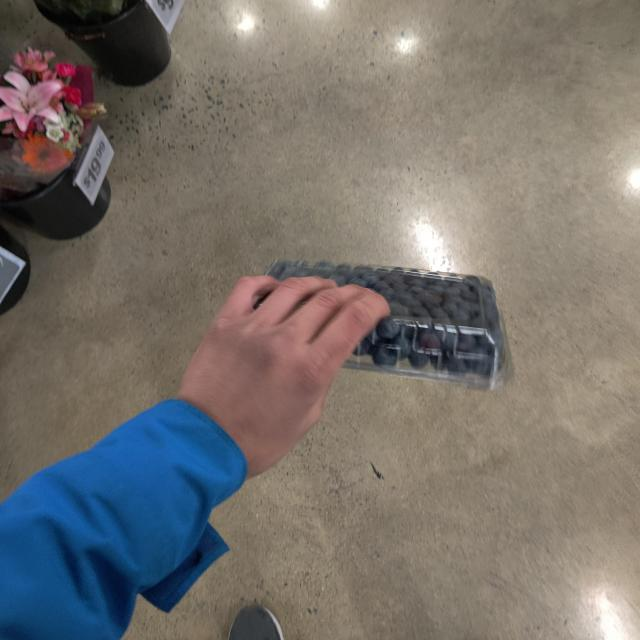Blueberries: (250, 237, 516, 401)
